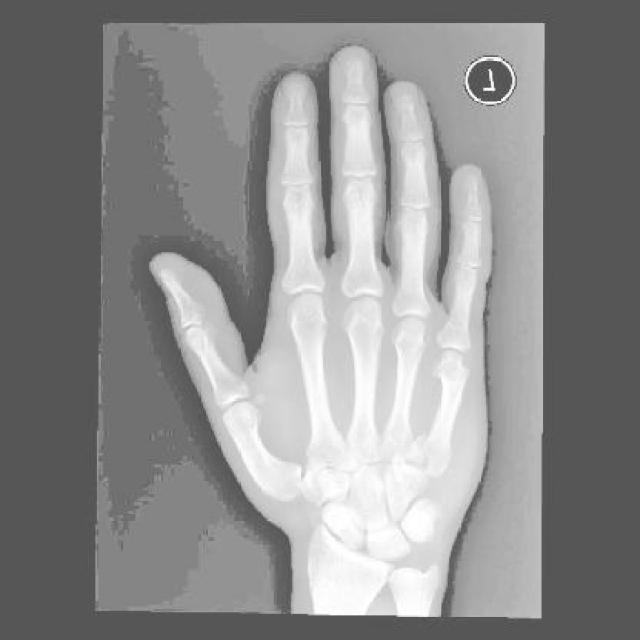Fracture: (409, 437, 443, 476)
